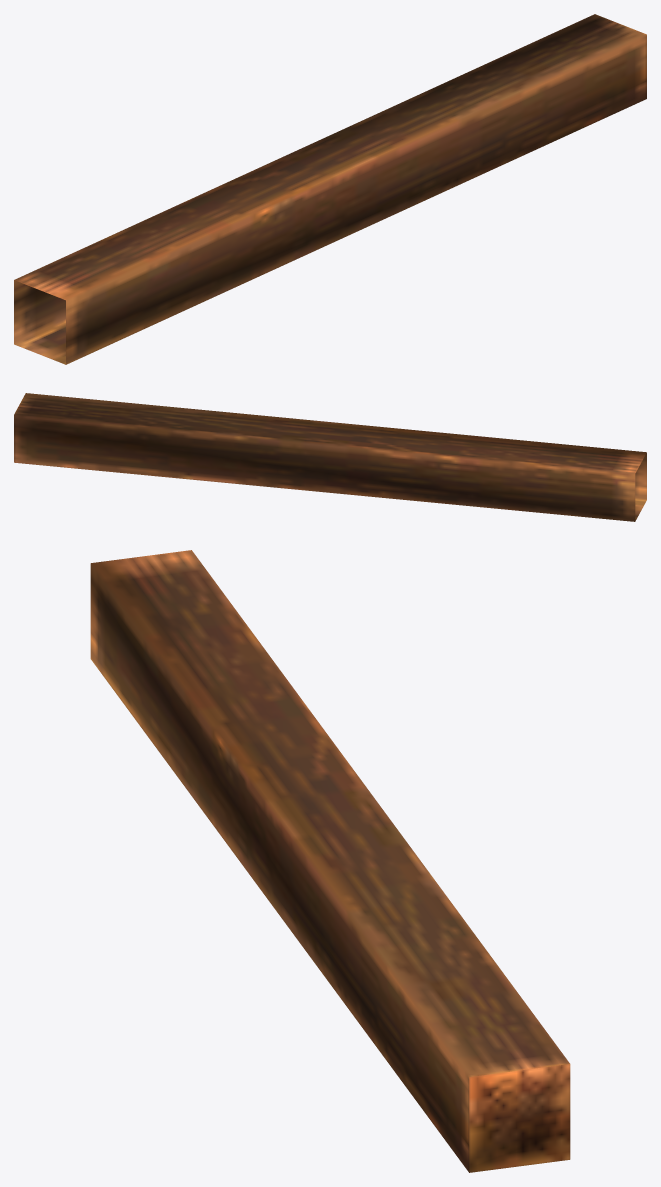
Rendered from SWORDLIGHT20_JAILBRACE48.fbx.
3 views of the same model, one above another, from view 1: azimuth 30°, elevation 25°; view 2: azimuth 150°, elevation 25°; view 3: azimuth 270°, elevation 25° (orthographic). The views are drawn at different scales.
Parts seen in each view (by area): view 1: SWORDLIGHT20_JAILBRACE48; view 2: SWORDLIGHT20_JAILBRACE48; view 3: SWORDLIGHT20_JAILBRACE48.
Boxes of the visible parts, x1,y1,x2,y2 form: SWORDLIGHT20_JAILBRACE48: [14, 14, 646, 364]; SWORDLIGHT20_JAILBRACE48: [14, 393, 646, 521]; SWORDLIGHT20_JAILBRACE48: [90, 550, 570, 1172].
Bounding box in the file's own units: 47178 × 4000 × 18143.
Materials: 1 (1 with a texture image).
